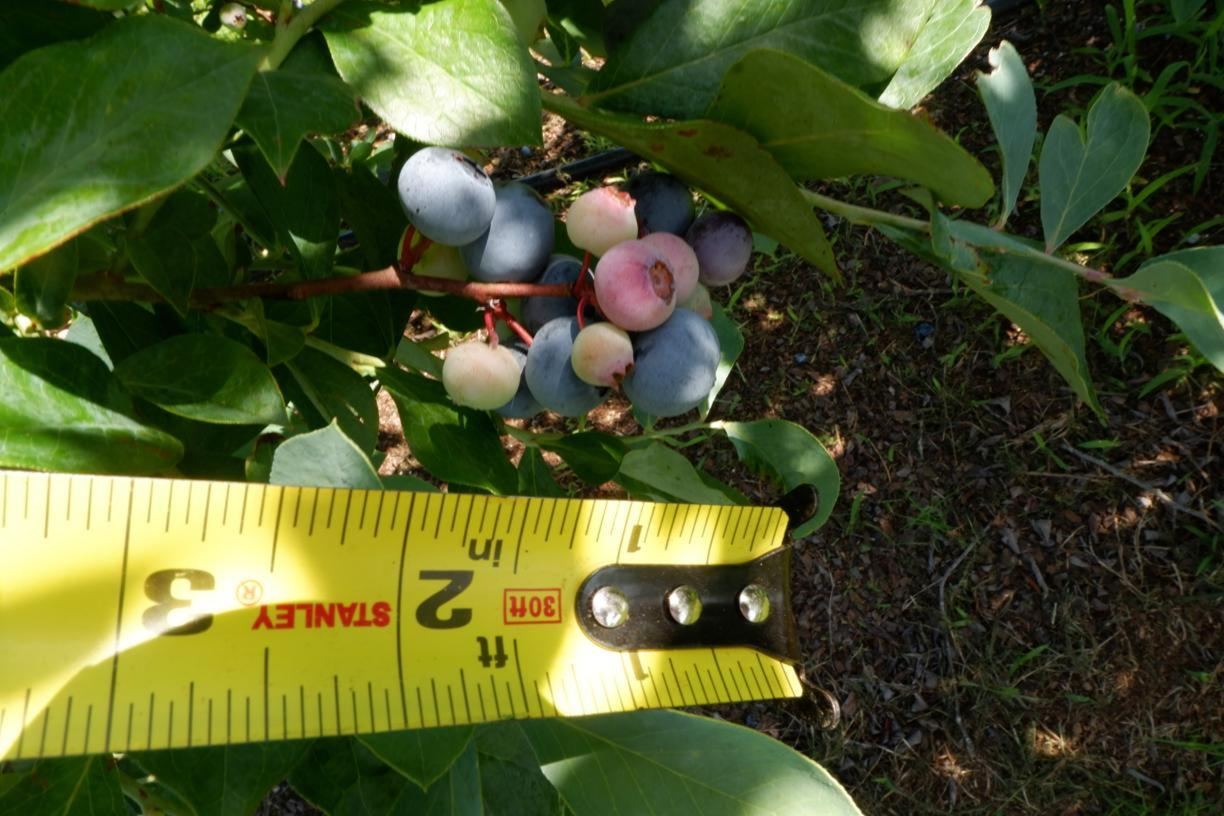Immature: (594, 240, 678, 331), (397, 222, 469, 297), (442, 340, 518, 409), (567, 185, 639, 257), (641, 233, 699, 306), (571, 323, 634, 386), (676, 281, 711, 318)
Mature: (622, 307, 722, 417), (397, 148, 498, 247), (461, 182, 556, 284), (526, 316, 615, 417), (522, 255, 596, 339), (622, 171, 694, 243), (686, 211, 753, 287), (496, 343, 544, 419)
